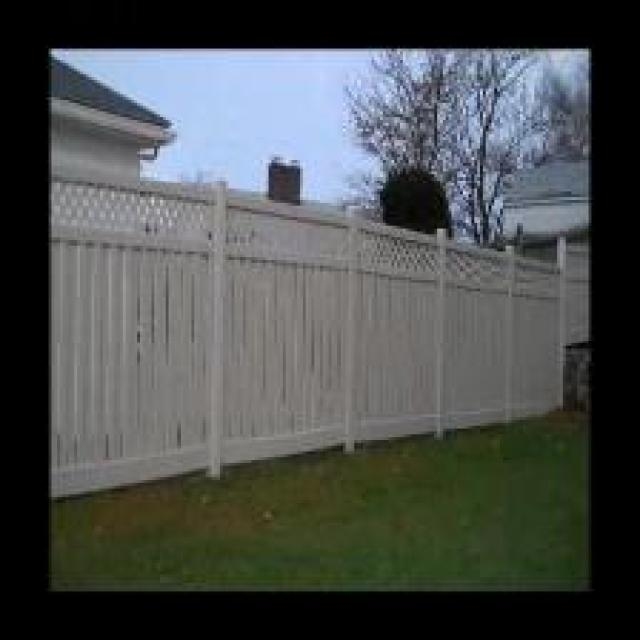other: (142, 158, 180, 226)
